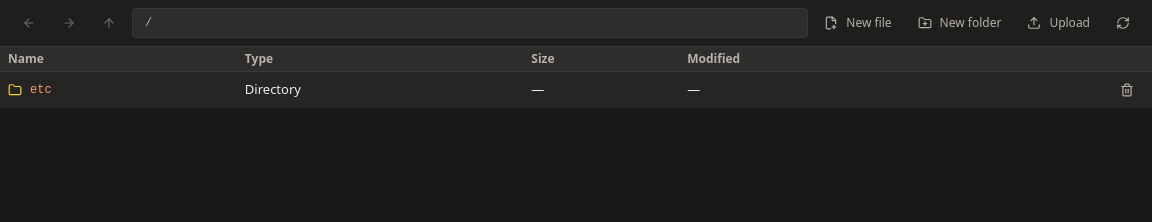
Test: FilesTab › navigates back and forward through history
Click the button with test id "file-row-etc" at (41, 90), box [30,82,52,98]
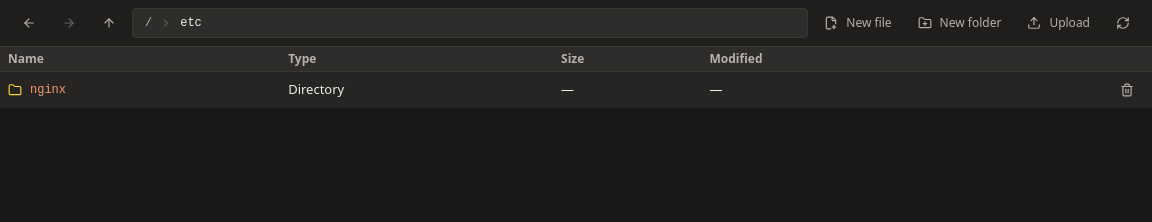
Now the button with test id "file-row-nginx" is shown
Click the button with test id "file-row-nginx" at (48, 90), box [30,82,66,98]
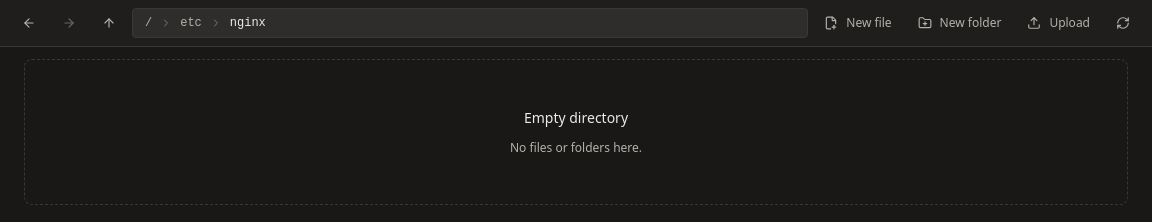
Now the button with test id "crumb-1" reads "nginx", box [226,15,270,31]
Click the button with test id "files-back" at (29, 23), box [12,9,46,37]
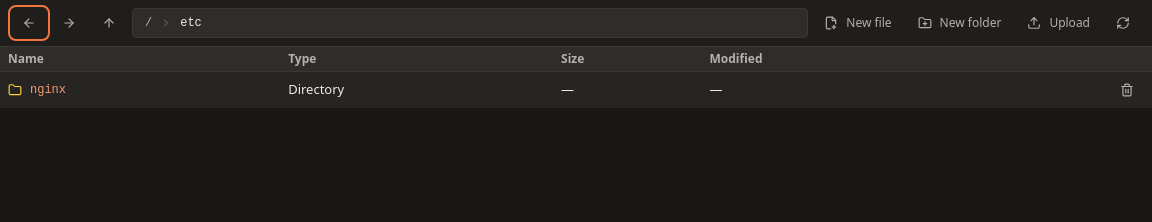
Expected: the button with test id "crumb-0" reads "etc", [176,15,206,31]
Now the button with test id "crumb-1" is gone
Click the button with test id "files-forward" at (69, 23), box [52,9,86,37]
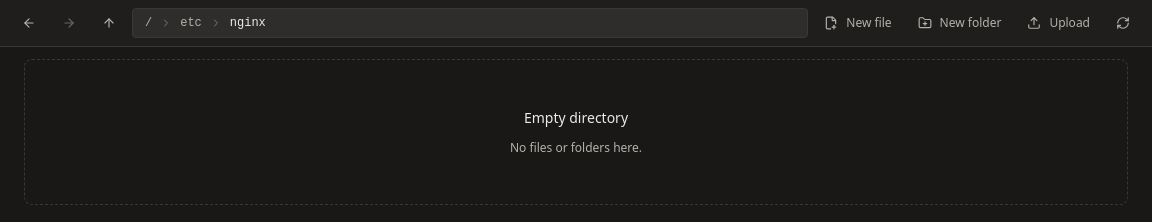
Now the button with test id "crumb-1" reads "nginx", box [226,15,270,31]
Now the button with test id "files-back" is enabled, box [12,9,46,37]
Now the button with test id "files-forward" is disabled, box [52,9,86,37]
